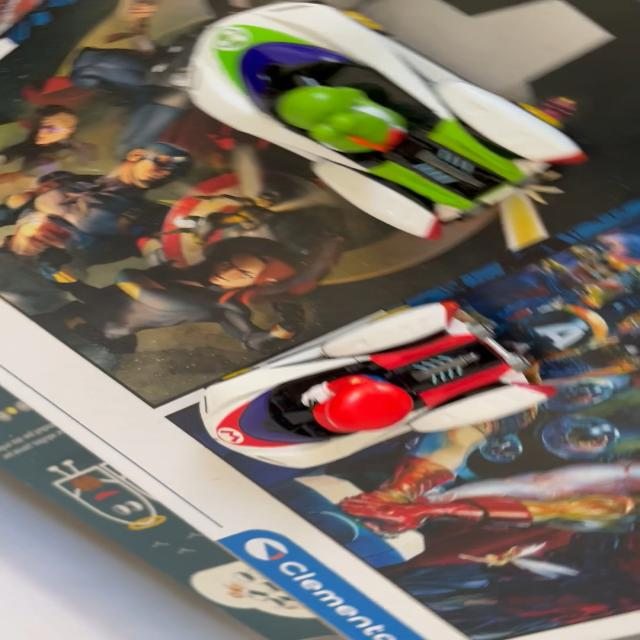mario: (183, 290, 573, 484)
yoshi: (154, 0, 616, 262)
